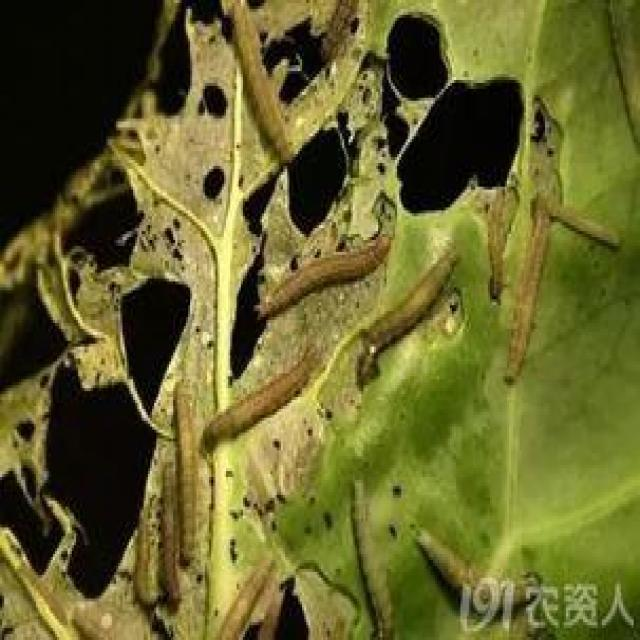BeetArmyWorm-Larva-: (249, 218, 402, 327), (357, 248, 465, 380), (200, 346, 322, 458), (346, 469, 402, 637), (168, 374, 205, 566), (544, 191, 624, 252)
